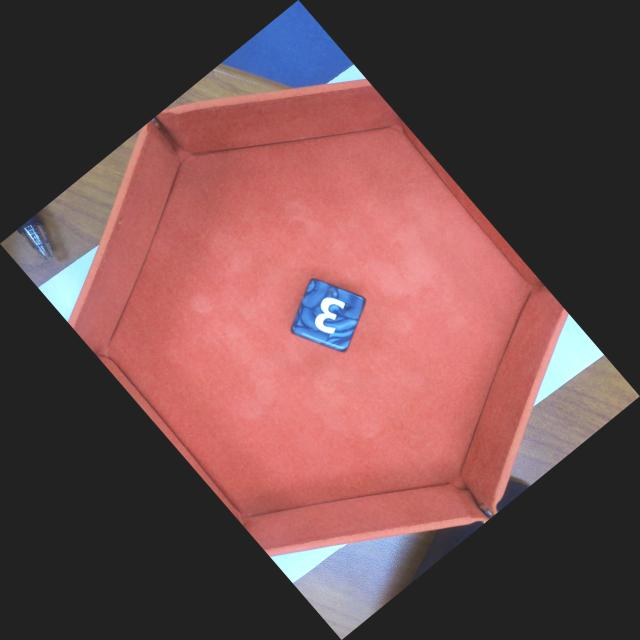dice: (296, 279, 367, 349)
